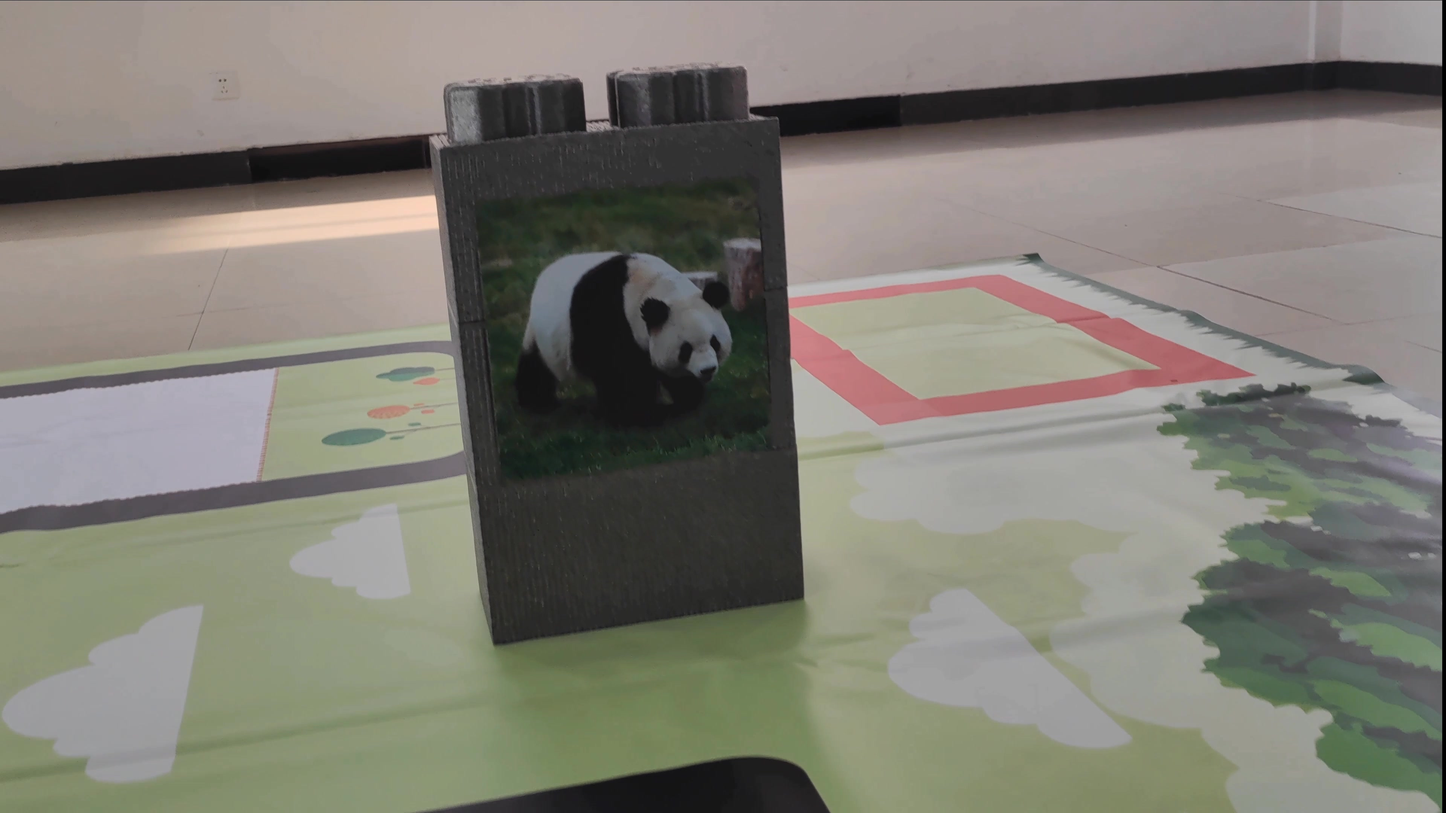panda: (496, 250, 757, 431)
